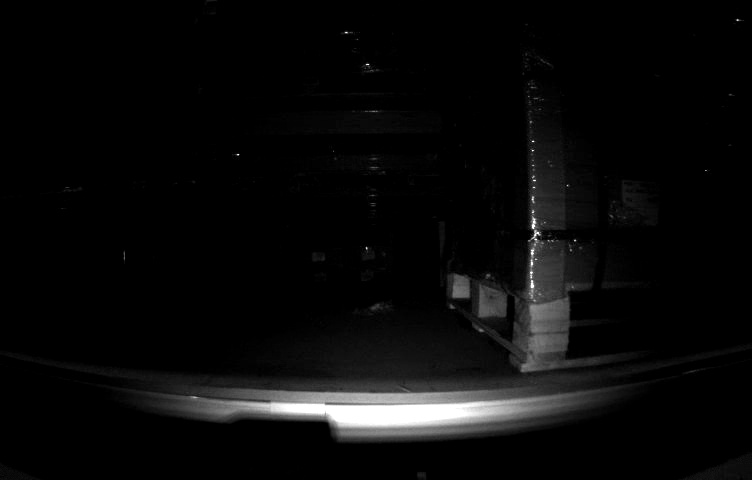True Barcode: (622, 178, 671, 226)
